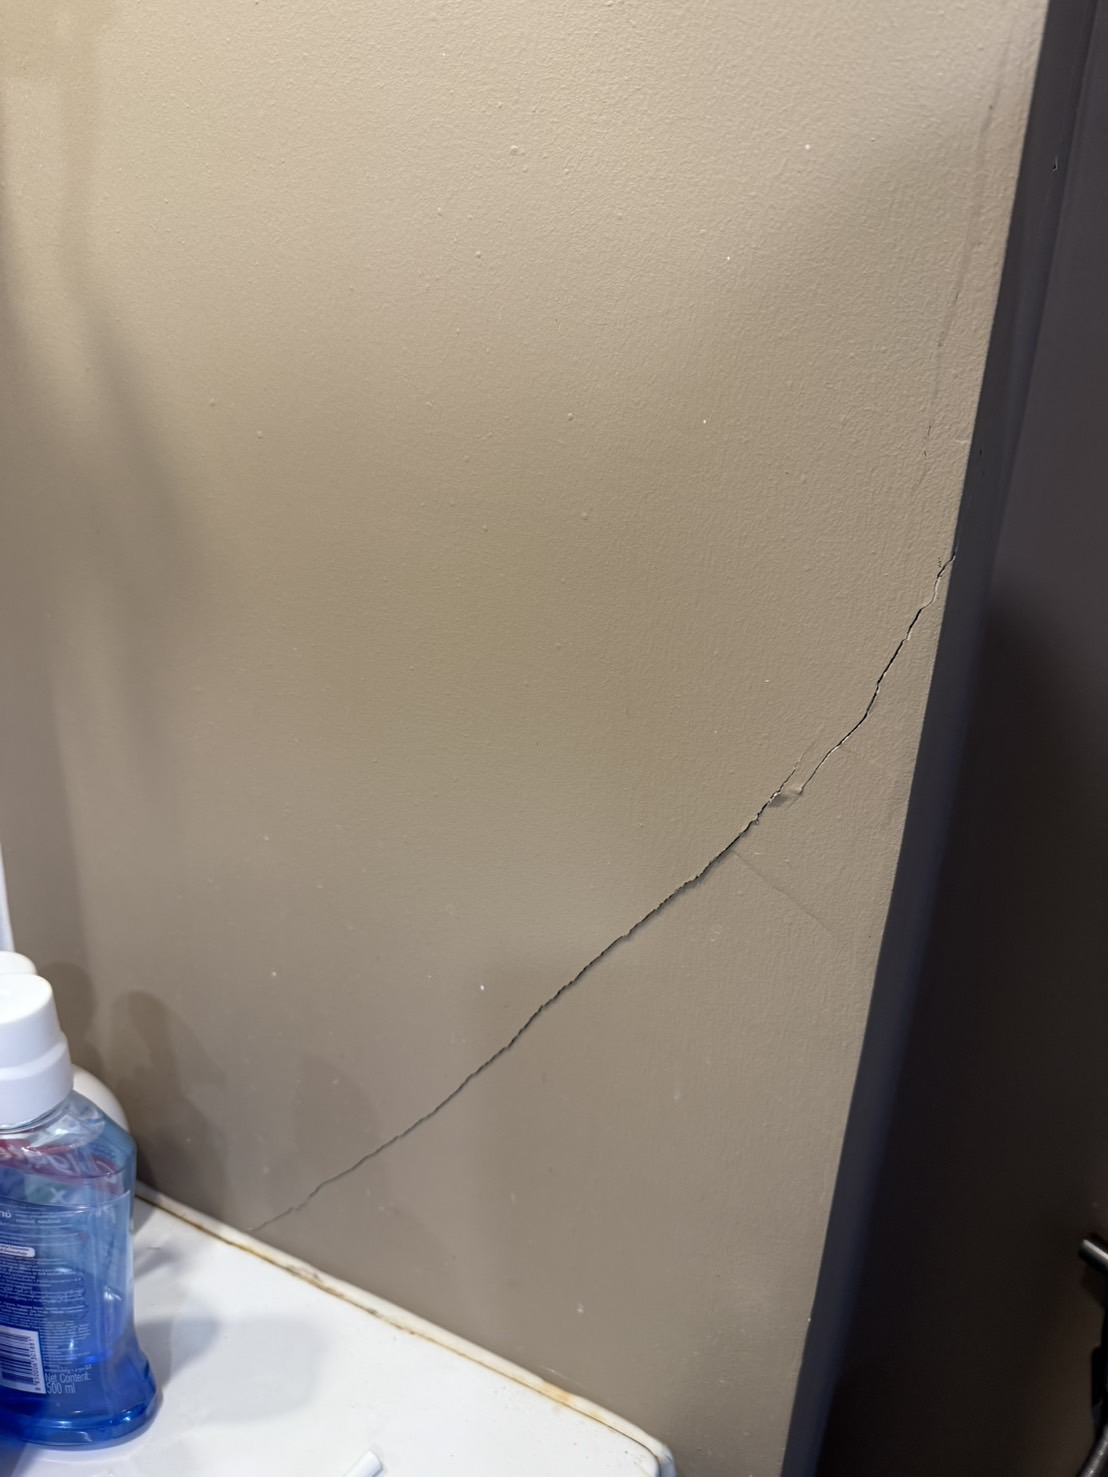Low: (267, 531, 961, 1231)
